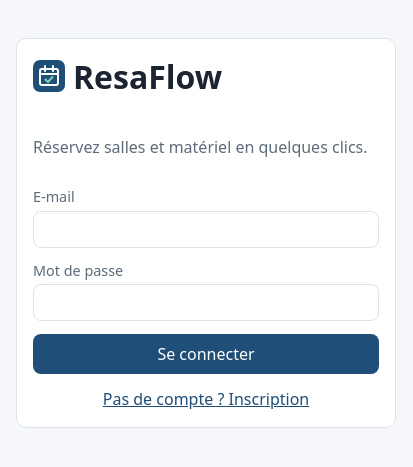
authentification › affiche l'erreur renvoyée par l'API
Type "a@b.fr" into the field labelled "E-mail".
click(206, 229); type("a@b.fr")  # box [33,211,379,248]
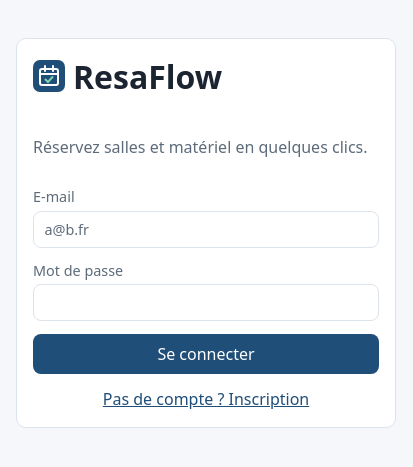
Type "x" into the password field labelled "Mot de passe".
click(206, 303); type("x")  # box [33,284,379,322]
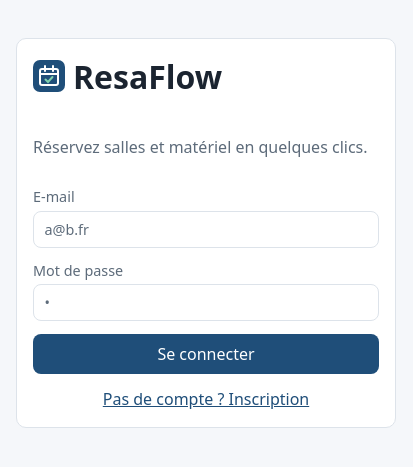
Click the button "Se connecter".
click(206, 354)  # box [33,334,379,374]
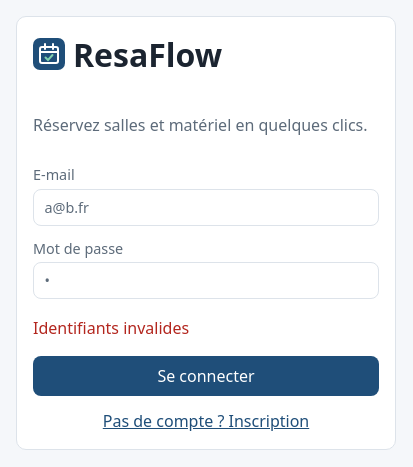
Check: the message reads "Identifiants invalides", box [33,317,189,339]
